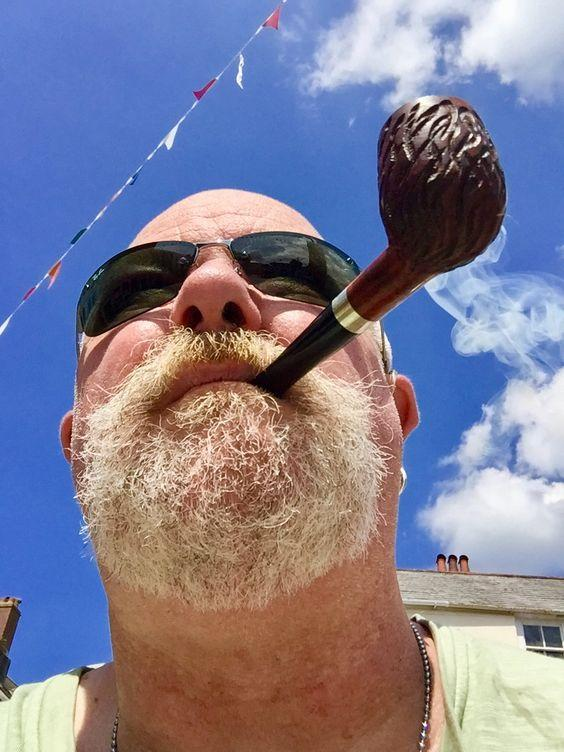trubka: (255, 97, 506, 397)
